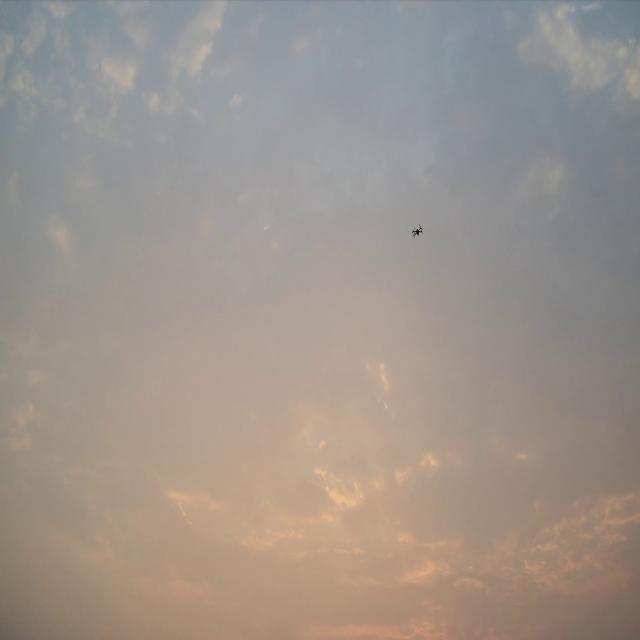UAV: (411, 223, 423, 238)
